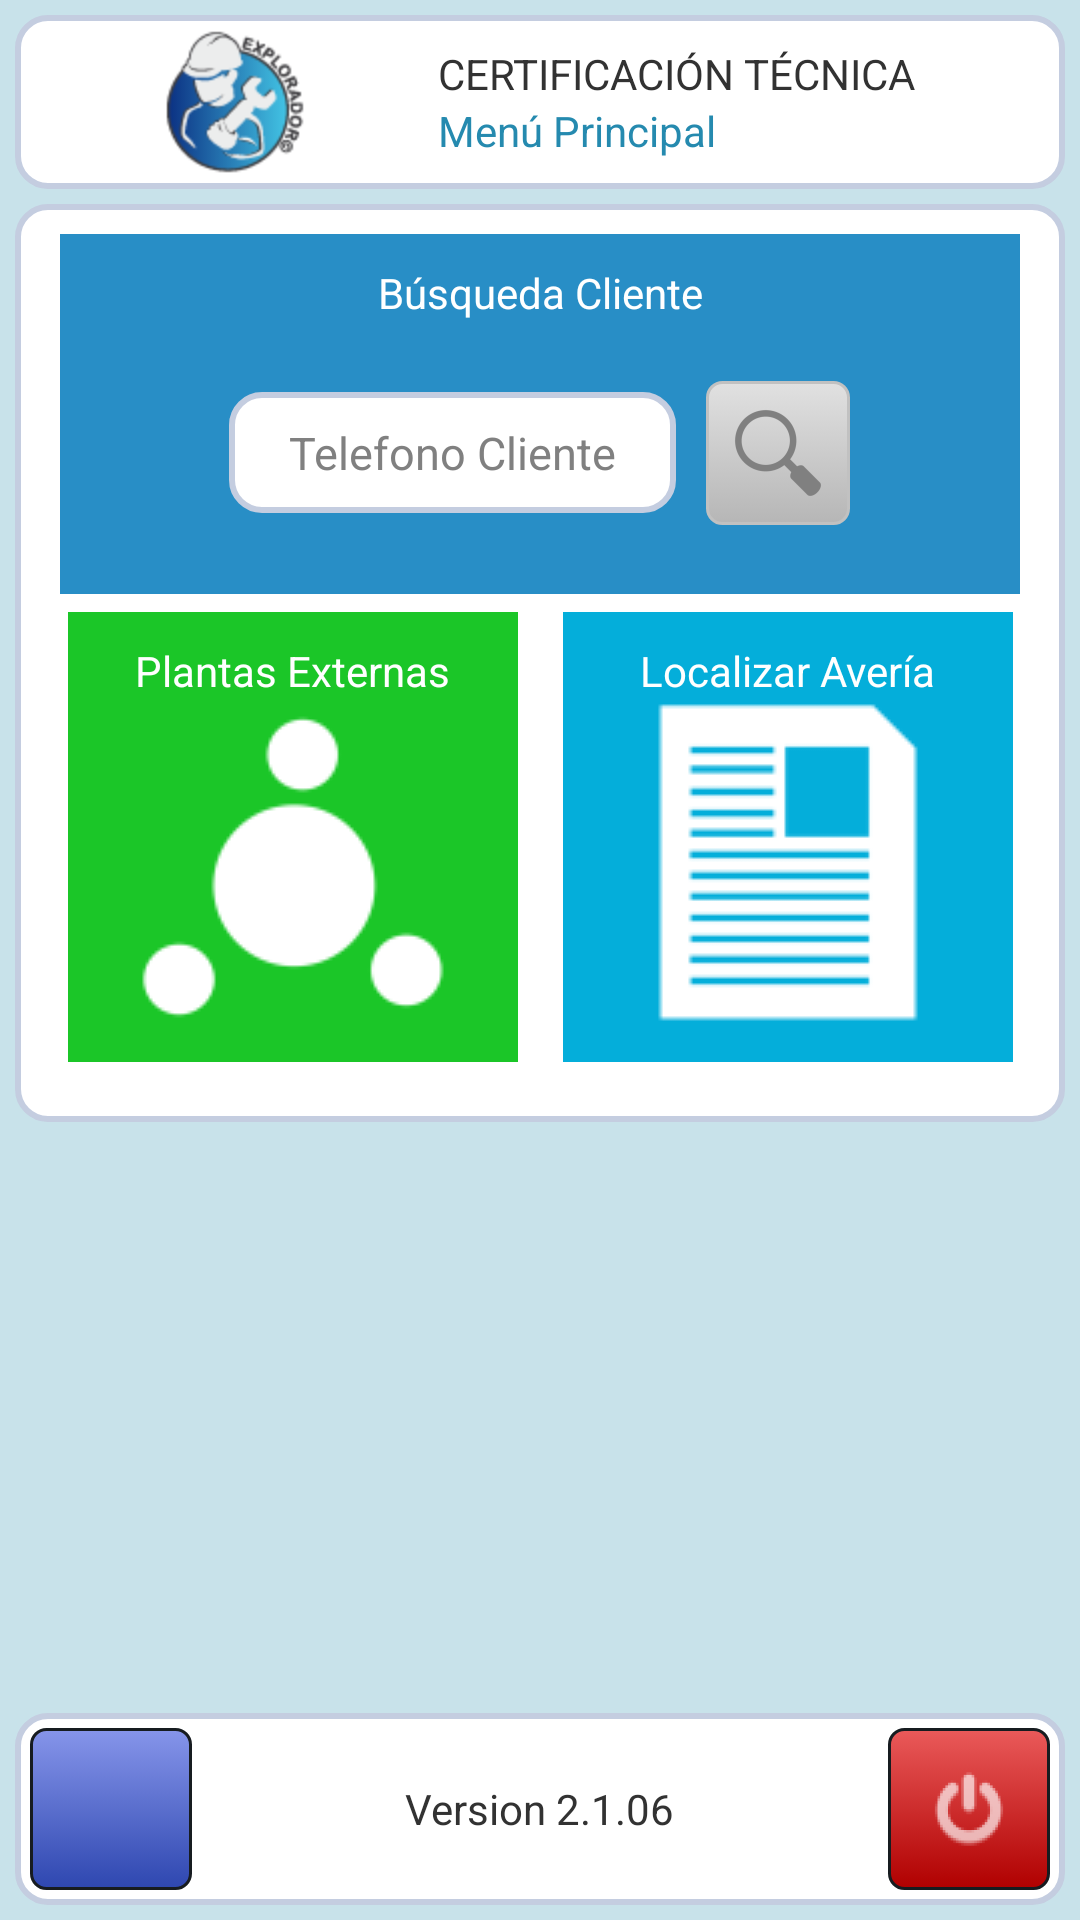

Locate icon controls on the screen. Image size 1080×1920, boxes as detection(x1, y1, x2, y2).
buscar: detection(706, 381, 850, 525)
shutdown: detection(888, 1728, 1050, 1890)
